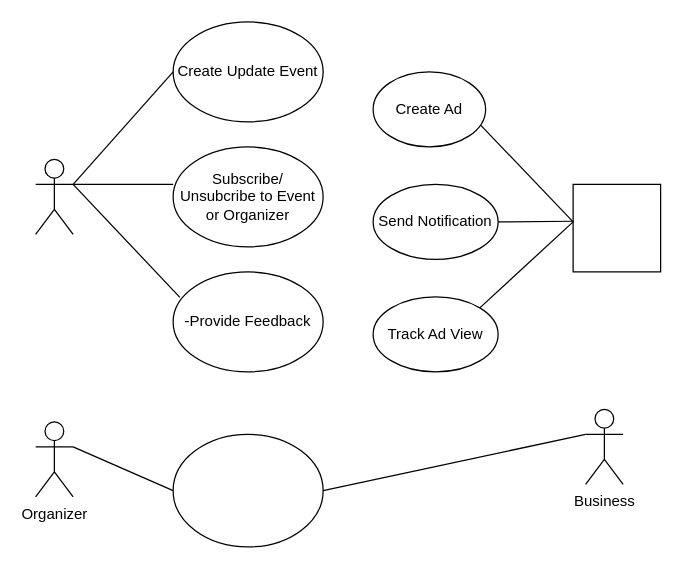
The diagram is 683 pixels wide and 569 high, and some of its shapes have lost their labels. Here are the shapes that lost their labels. From the top down, the centre of each, then its label:
pixel 53 196: Student
pixel 616 227: System
pixel 247 490: Validate Reference
